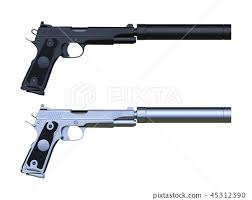gun: (18, 19, 234, 99)
